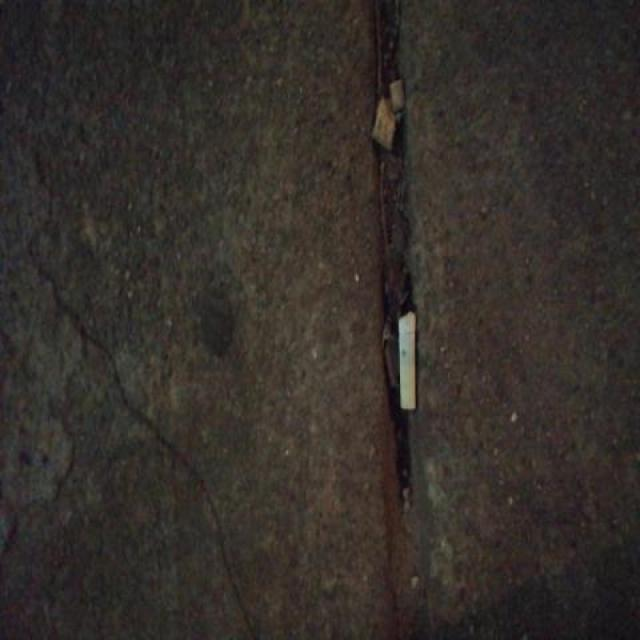non-organic waste: (396, 304, 420, 415)
